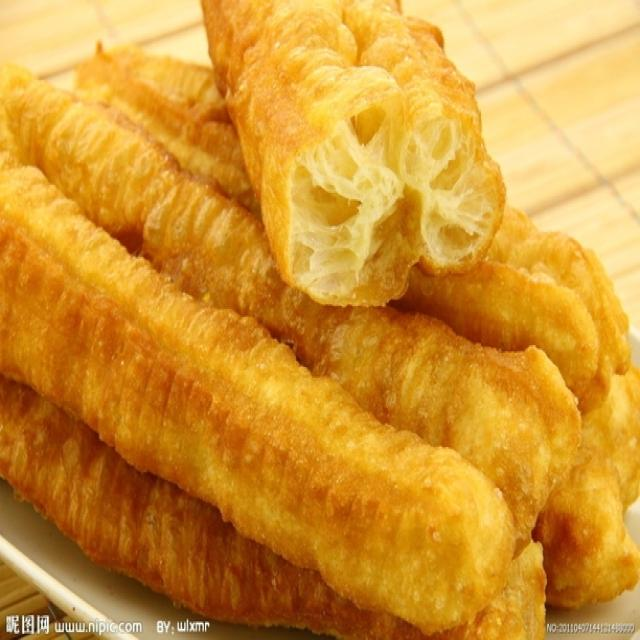炸货点心: (16, 16, 617, 607)
